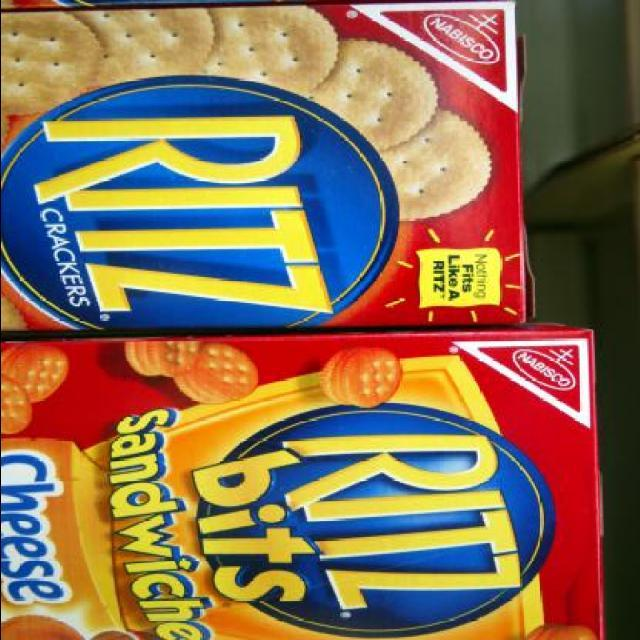Ritz cracker: (2, 316, 606, 638), (0, 2, 539, 335)
